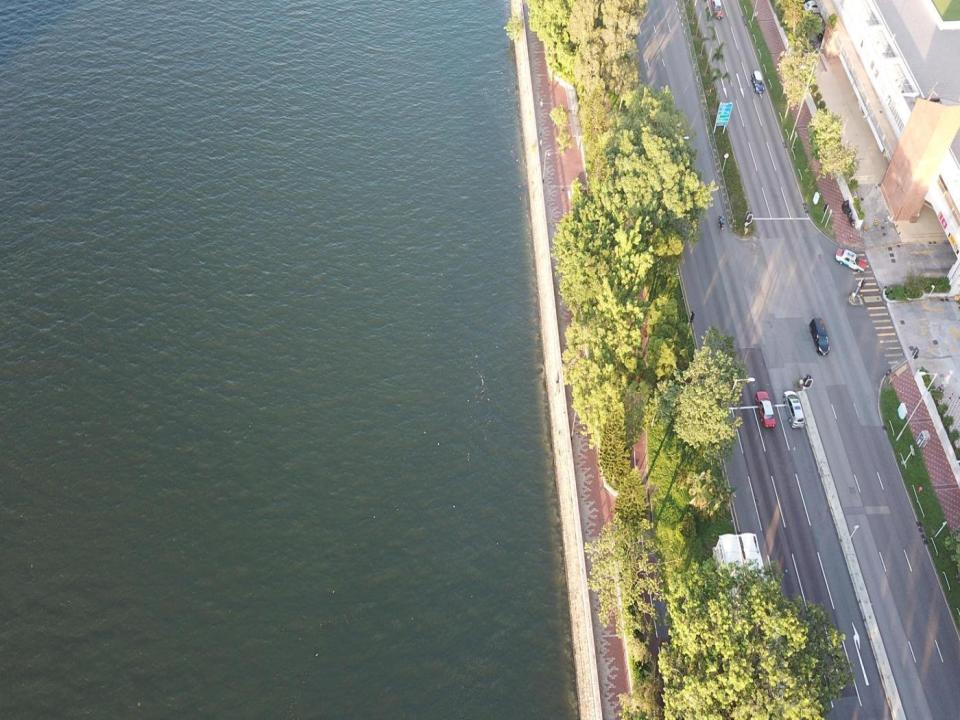car: (755, 391, 776, 429), (835, 248, 866, 272), (810, 318, 830, 355), (750, 70, 764, 94), (804, 0, 822, 13), (710, 0, 722, 19)
van: (782, 390, 805, 429)
